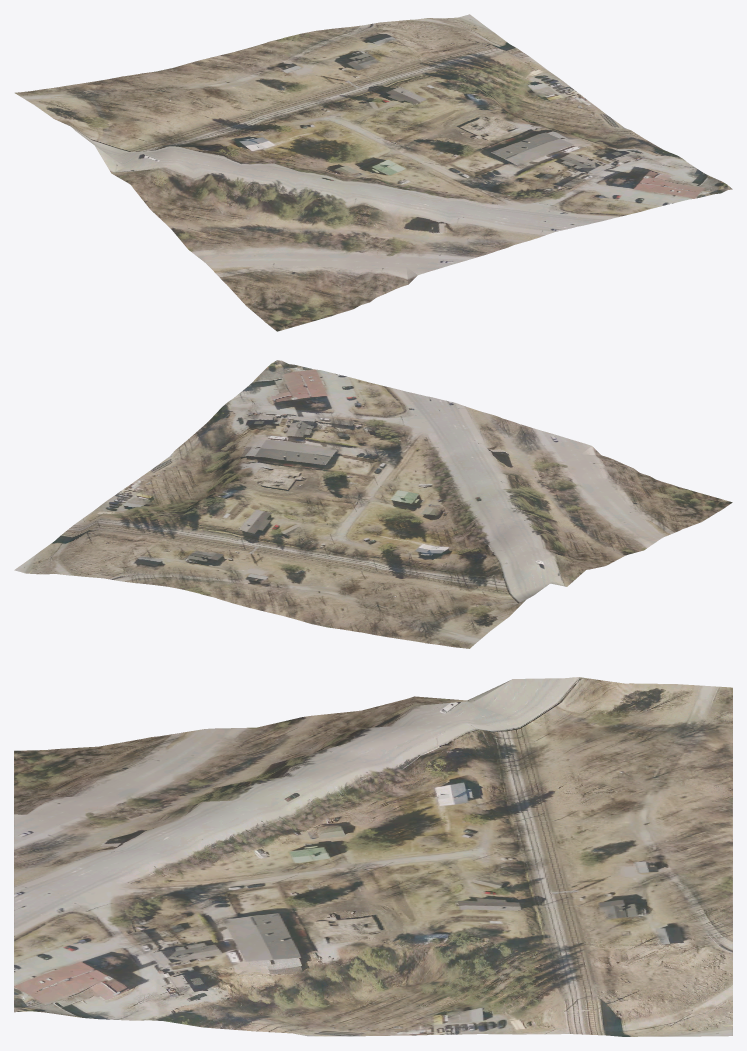
The model's file is CM_Terrain_24490458_6819794.fbx.
3 renders of one model, top to bottom at view 1: azimuth 30°, elevation 25°; view 2: azimuth 150°, elevation 25°; view 3: azimuth 270°, elevation 25°, orthographic. The views are drawn at different scales.
Visible parts, largest first — view 1: CM_Terrain_24490458_6819794_LOD0; view 2: CM_Terrain_24490458_6819794_LOD0; view 3: CM_Terrain_24490458_6819794_LOD0.
Boxes of the visible parts, x1,y1,x2,y2 form: CM_Terrain_24490458_6819794_LOD0: [15, 14, 732, 331]; CM_Terrain_24490458_6819794_LOD0: [14, 360, 732, 648]; CM_Terrain_24490458_6819794_LOD0: [14, 677, 732, 1036].
Size of what is drawn, in the model's own units: 205 by 23.19 by 205.
